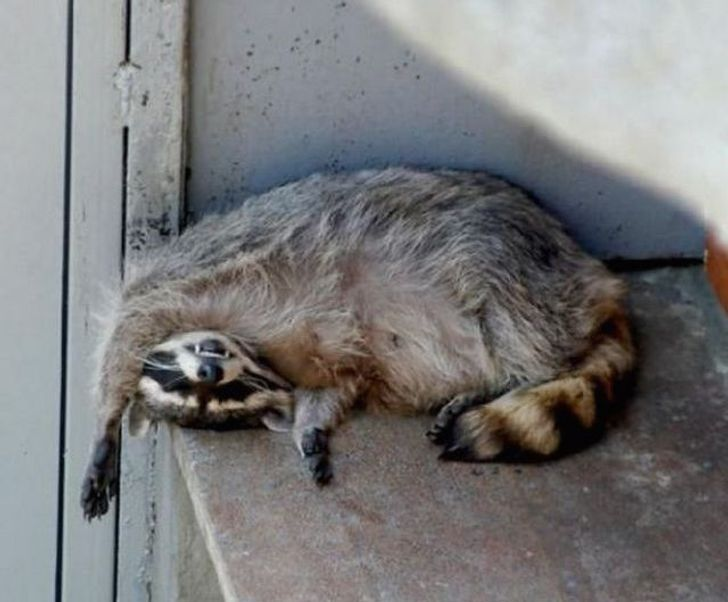raccoon: (48, 165, 635, 425)
